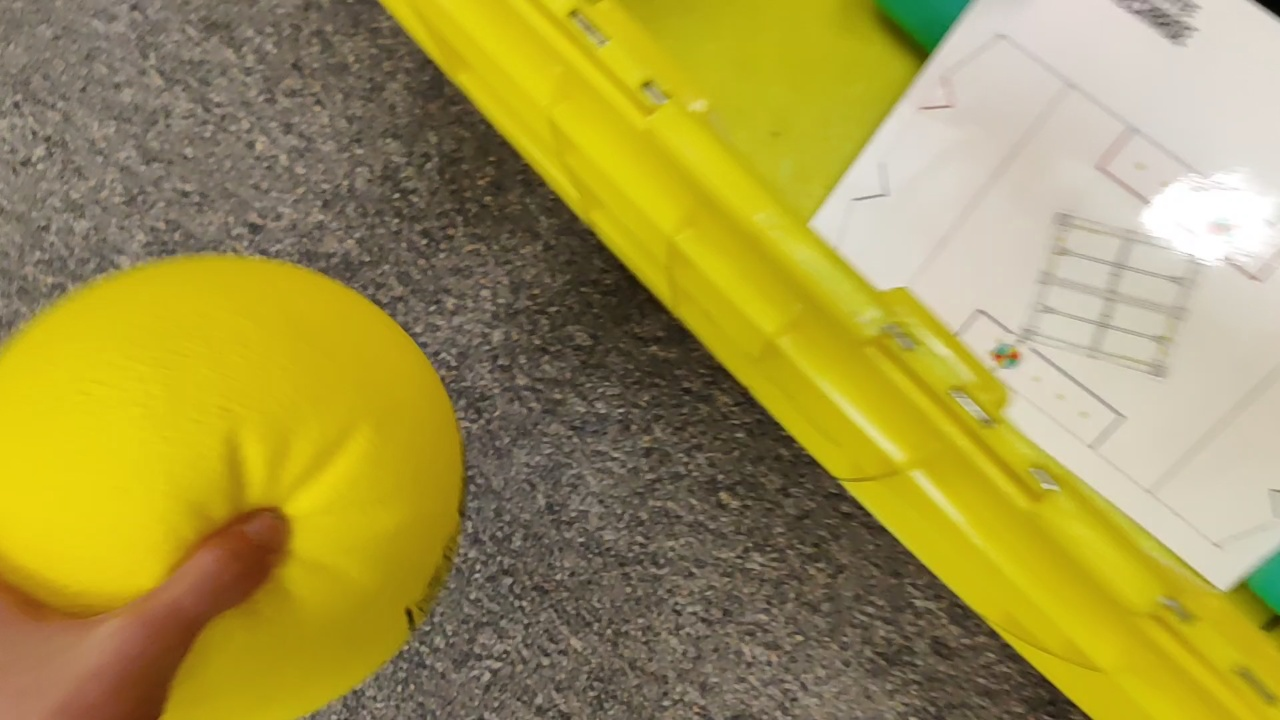Ball: (1, 255, 466, 720)
